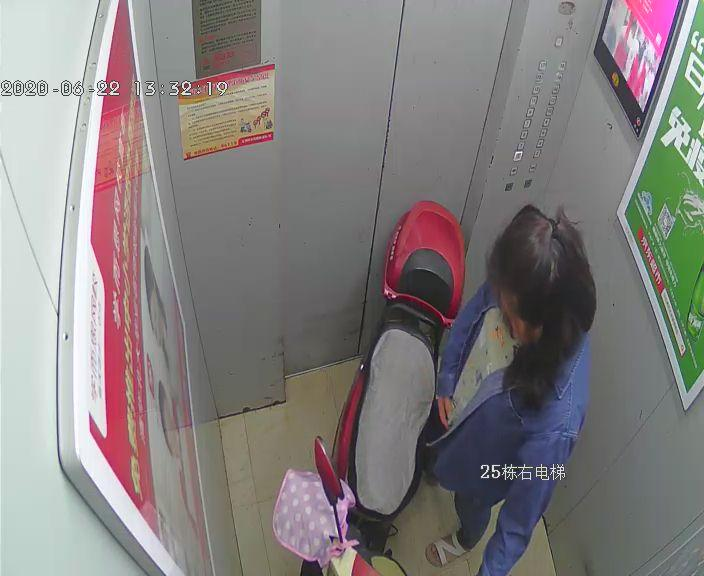Electric-bicycle: (300, 196, 464, 575)
